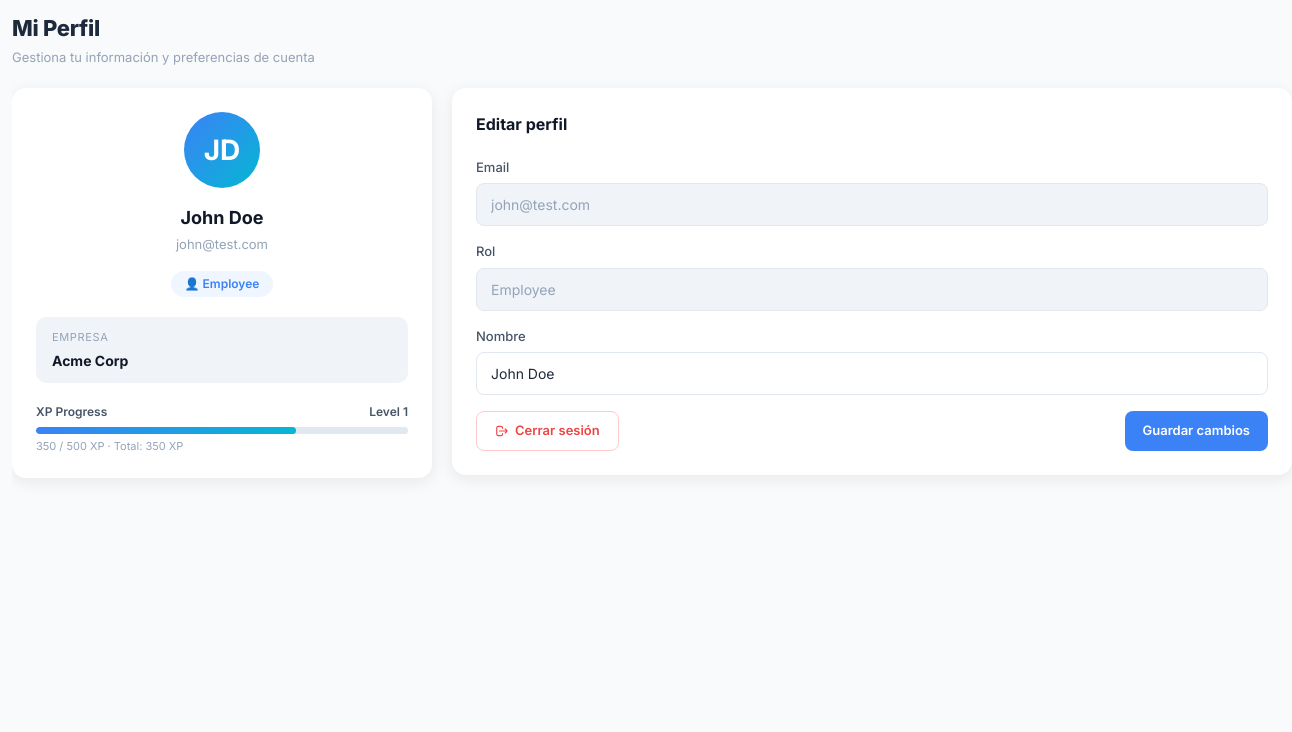
it: Profile › muestra mensaje de éxito después de guardar
The image size is (1292, 732).
Click the button "Guardar cambios".
click(1196, 431)  # box [1124,411,1268,450]
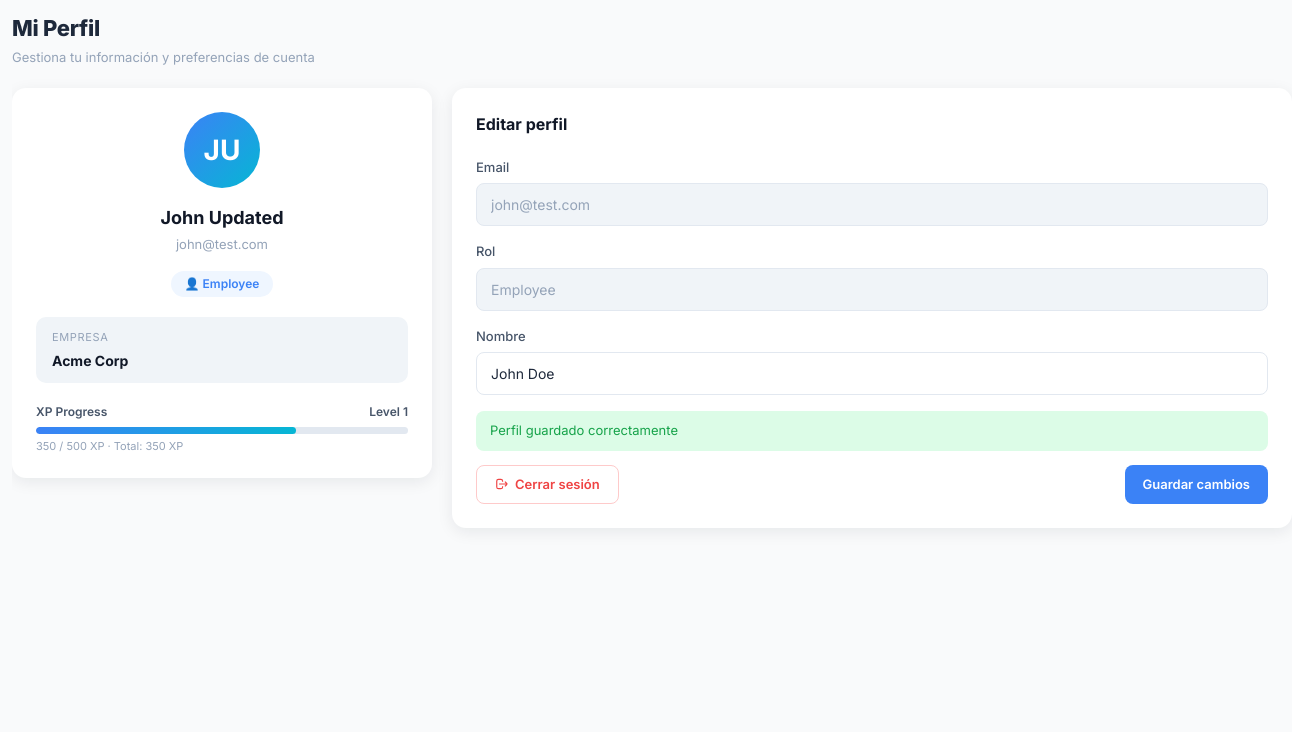
Expected: the text "Perfil guardado correctamente" is shown, [476,411,1268,450]
